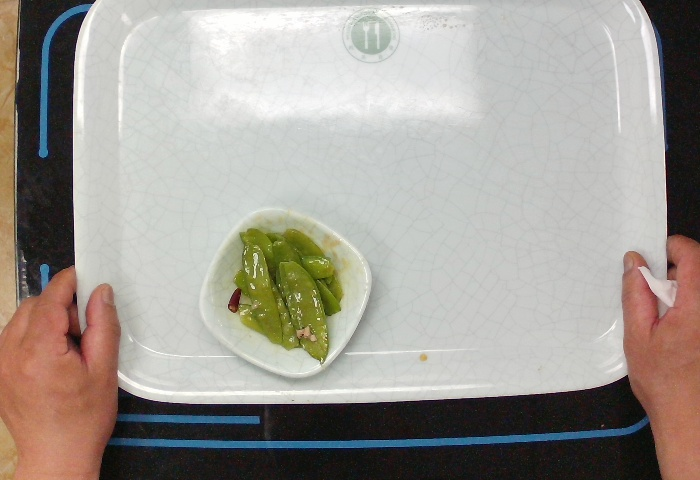JYsf-Si_Fang_Die: (194, 203, 376, 383)
